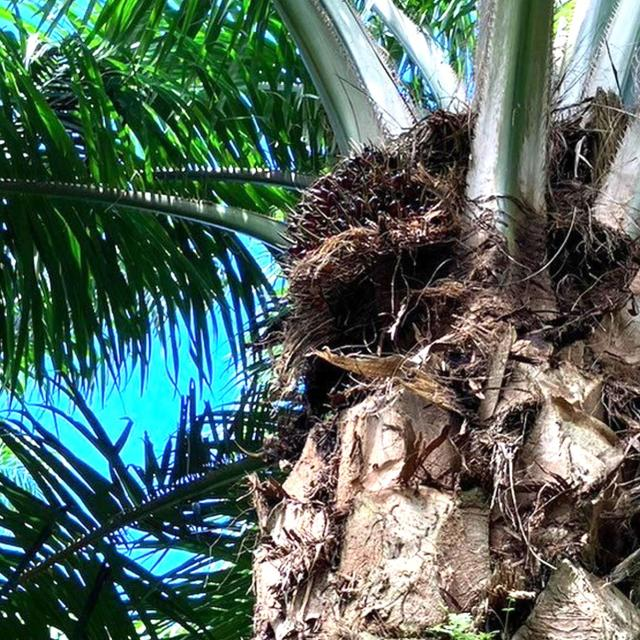ripe: (288, 150, 466, 269)
